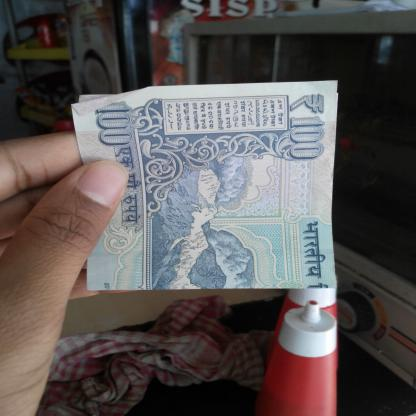Old100Back: (70, 80, 340, 291)
